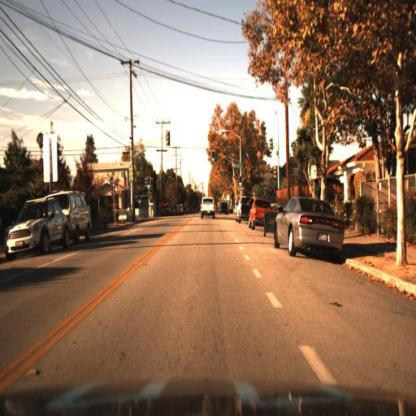car: (271, 190, 353, 268), (6, 196, 68, 262), (44, 188, 94, 248), (246, 195, 275, 237), (198, 186, 218, 224), (235, 195, 251, 227), (161, 201, 173, 222)
trafficLight-Green: (209, 150, 218, 168), (238, 171, 246, 191), (146, 178, 152, 194), (236, 179, 244, 191)
